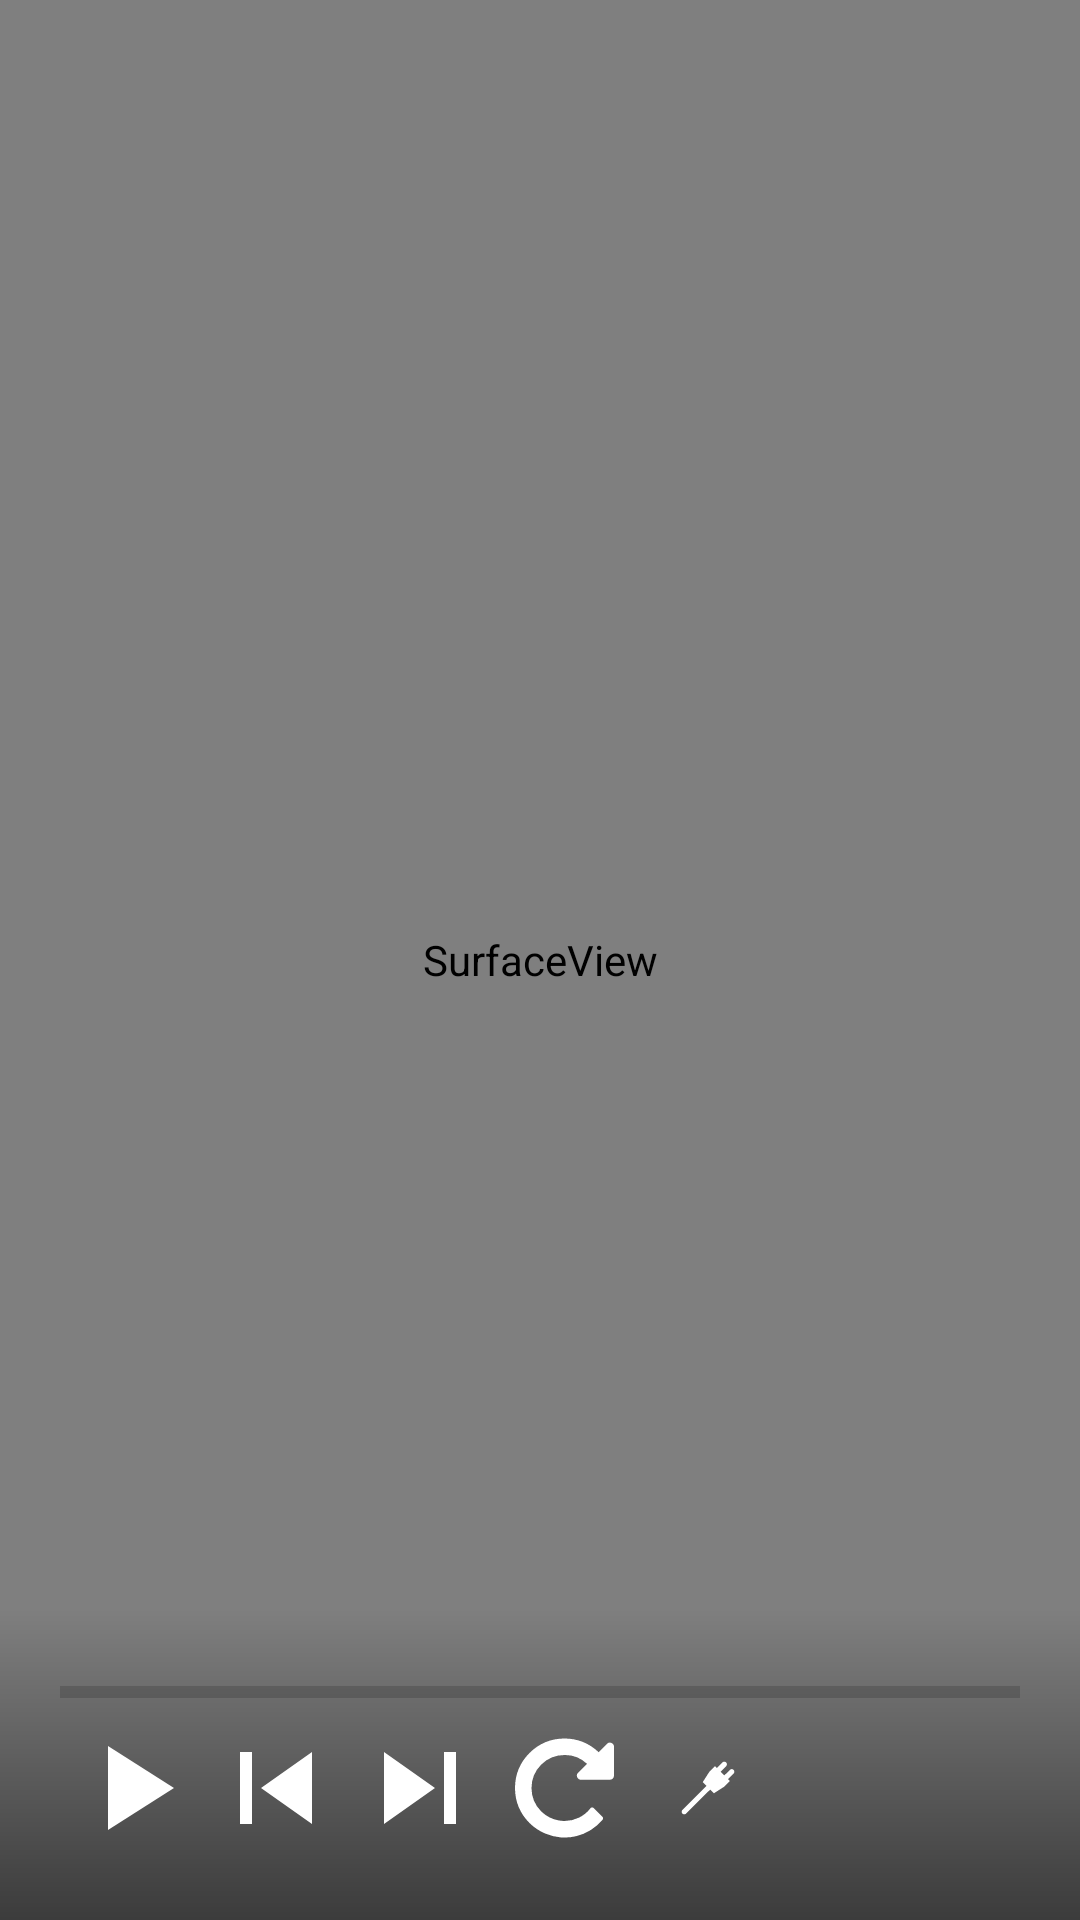

Icon click points for this 1080px×1920px phone screenshot, format (x=x, y=y):
play: (x=132, y=1773)
rotate: (x=564, y=1777)
skip next: (x=420, y=1770)
skip prev: (x=276, y=1770)
